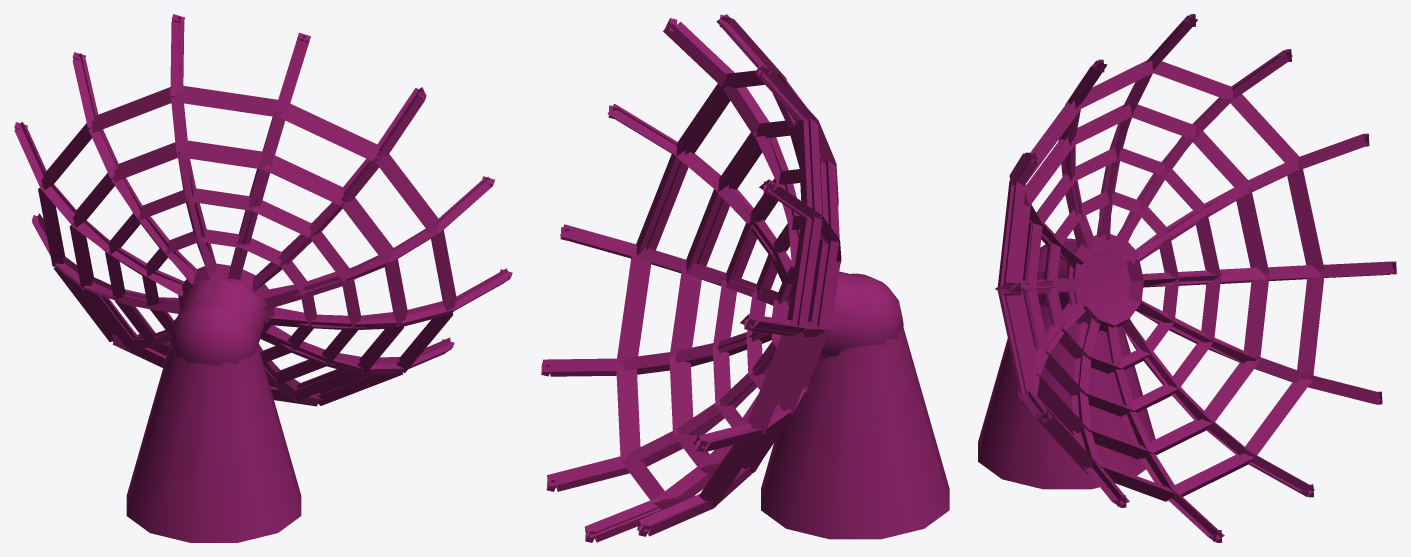
The model's file is Radar_Construction1.FBX.
The picture shows the model from 3 angles, left to right: view 1: azimuth 30°, elevation 25°; view 2: azimuth 150°, elevation 25°; view 3: azimuth 270°, elevation 25°; orthographic projection. The views are drawn at different scales.
Parts seen in each view (by area): view 1: Dish, Base, Ball, Mount; view 2: Dish, Base, Ball, Mount; view 3: Dish, Base, Mount.
Part boxes in pixels (bbox=[...]): Dish: bbox=[14, 14, 512, 406]; Base: bbox=[126, 345, 301, 542]; Ball: bbox=[169, 301, 258, 365]; Mount: bbox=[178, 277, 267, 344]; Dish: bbox=[541, 14, 841, 542]; Base: bbox=[761, 327, 949, 539]; Ball: bbox=[848, 273, 903, 348]; Mount: bbox=[818, 271, 865, 359]; Dish: bbox=[995, 14, 1396, 542]; Base: bbox=[978, 304, 1155, 489]; Mount: bbox=[1041, 241, 1130, 324].
Bounding box in the file's own units: 5.76 × 6.71 × 5.67.
1 material, 1 textured.
